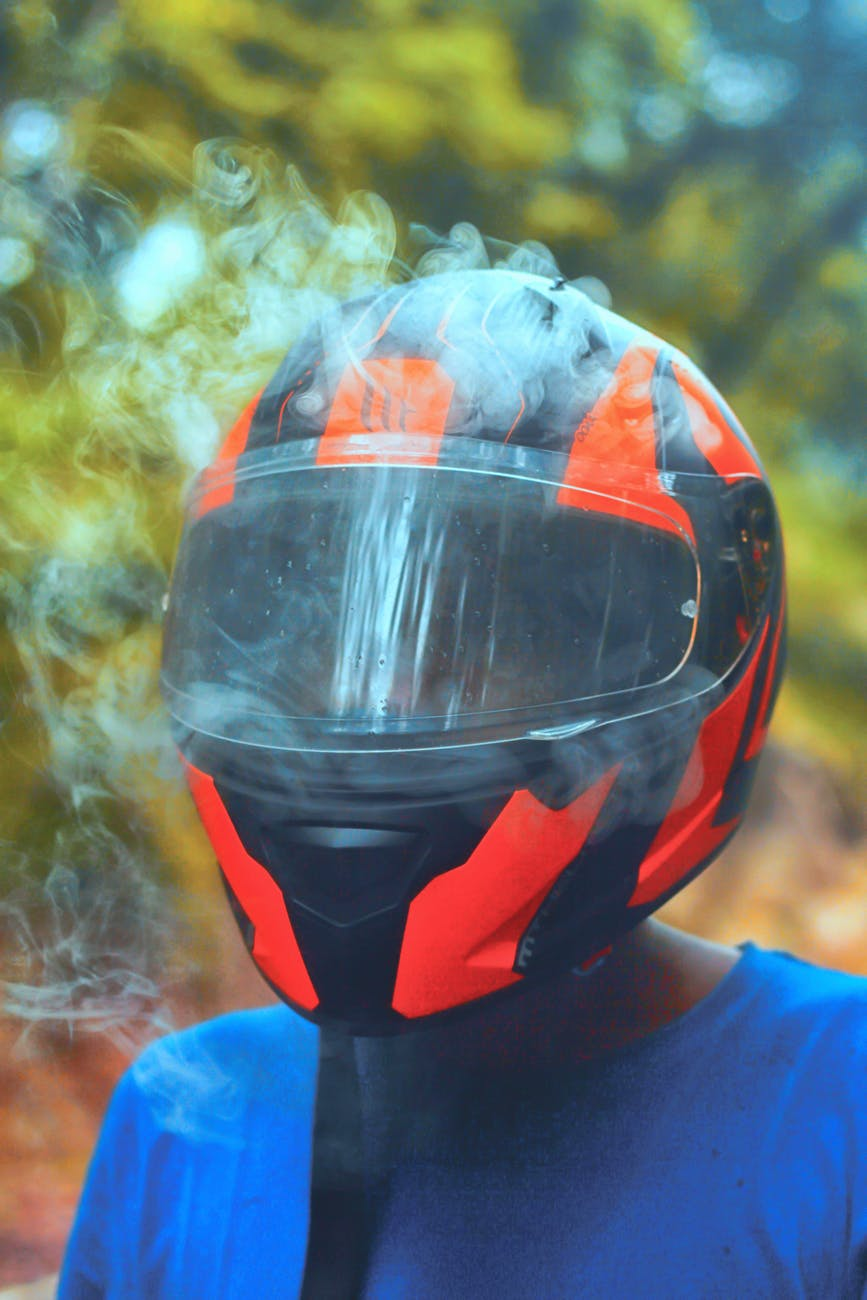helmet: (170, 315, 772, 959)
